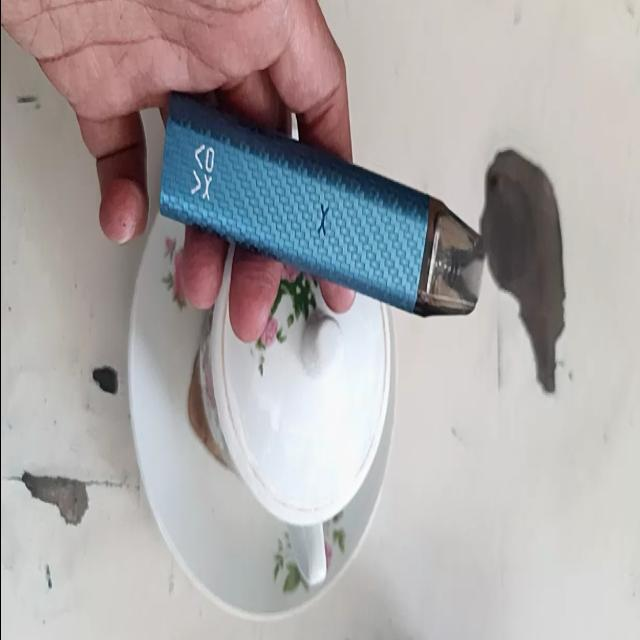Hazard: (155, 88, 486, 321)
